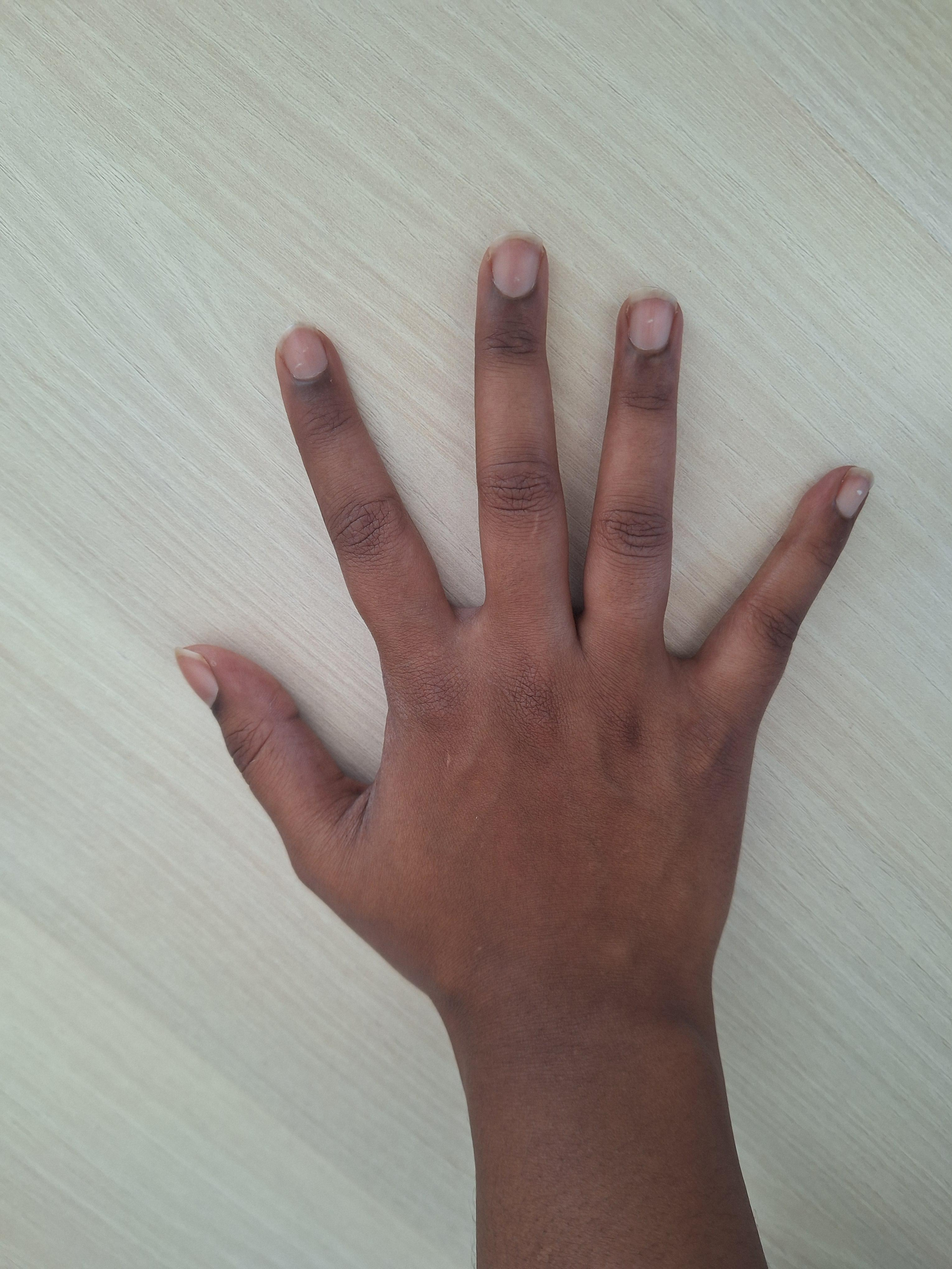Fingernail: (489, 230, 544, 297), (629, 286, 677, 351), (277, 322, 328, 379), (175, 647, 219, 706), (836, 467, 873, 520)
